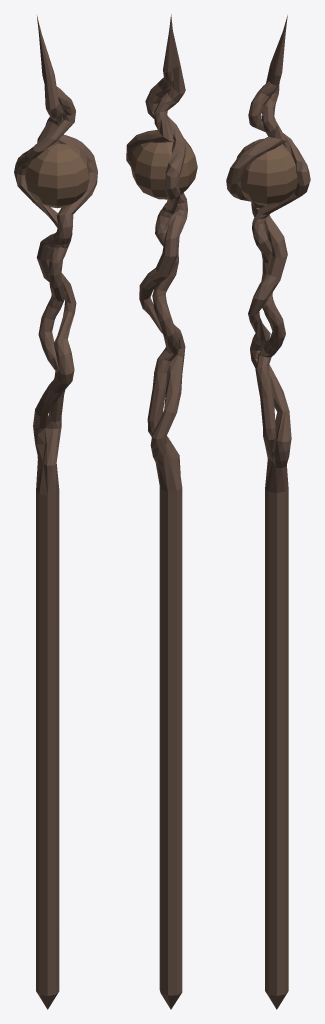
The model's file is cane-23.glb.
3 renders of one model, left to right at view 1: azimuth 90°, elevation 25°; view 2: azimuth 210°, elevation 25°; view 3: azimuth 270°, elevation 25°, orthographic.
Parts seen in each view (by area): view 1: cane_23; view 2: cane_23; view 3: cane_23.
Boxes of the visible parts, x1,y1,x2,y2 form: cane_23: (14,16,97,1009); cane_23: (126,14,197,1009); cane_23: (226,15,310,1009).
Bounding box in the file's own units: 12.26 × 199 × 15.26.
1 material, 1 textured.
